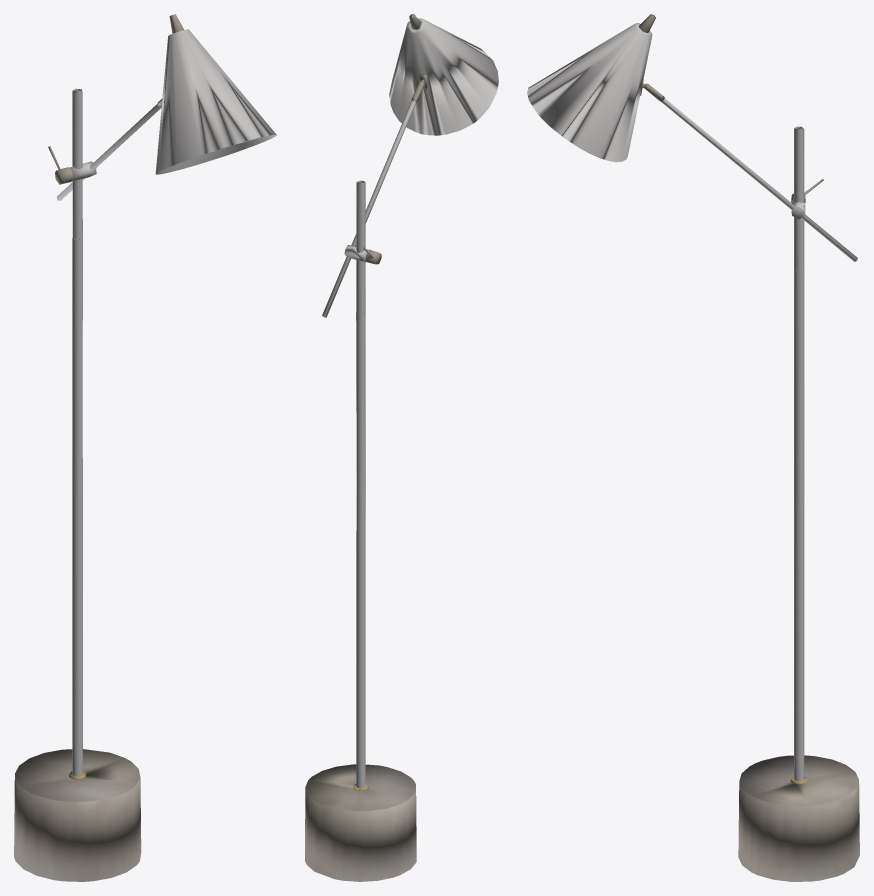
Rendered from abo-B075X3S2X5.glb.
The picture shows the model from 3 angles, left to right: view 1: azimuth 30°, elevation 25°; view 2: azimuth 150°, elevation 25°; view 3: azimuth 270°, elevation 25°; orthographic projection. The views are drawn at different scales.
Parts seen in each view (by area): view 1: RootNode; view 2: RootNode; view 3: RootNode.
Boxes of the visible parts, <box> form: RootNode: <box>14,14,276,881</box>; RootNode: <box>305,14,498,881</box>; RootNode: <box>527,14,859,881</box>.
Size of the model in its own units: 0.2225 by 1.43 by 0.5072.
1 material, 1 textured.
